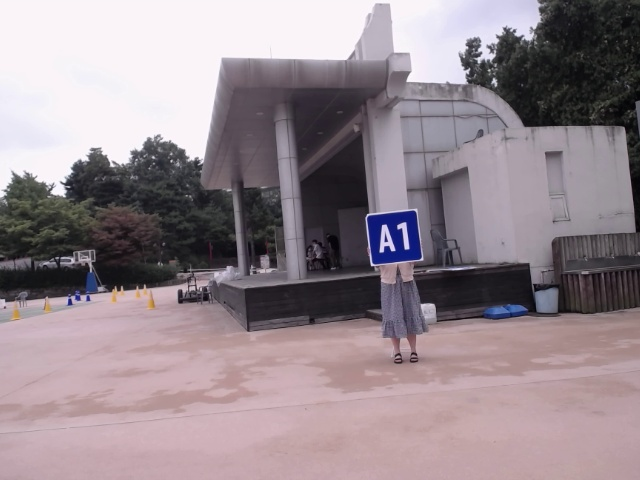delivery_a1: (366, 210, 423, 266)
